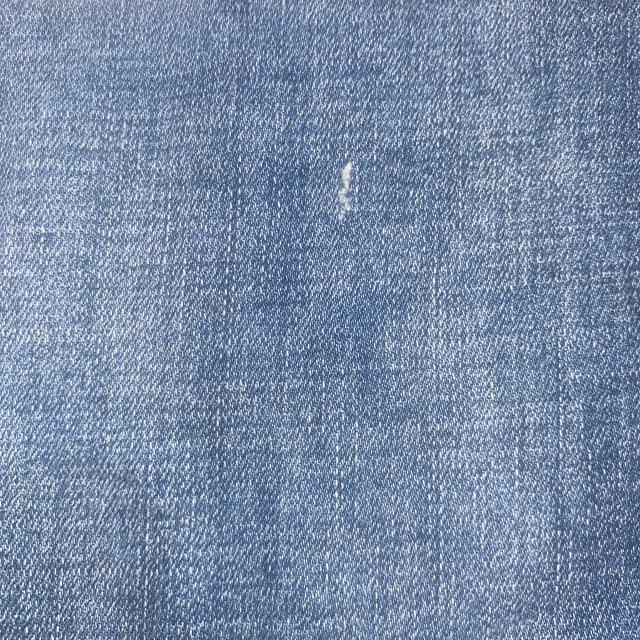Knot: (338, 161, 352, 220)
